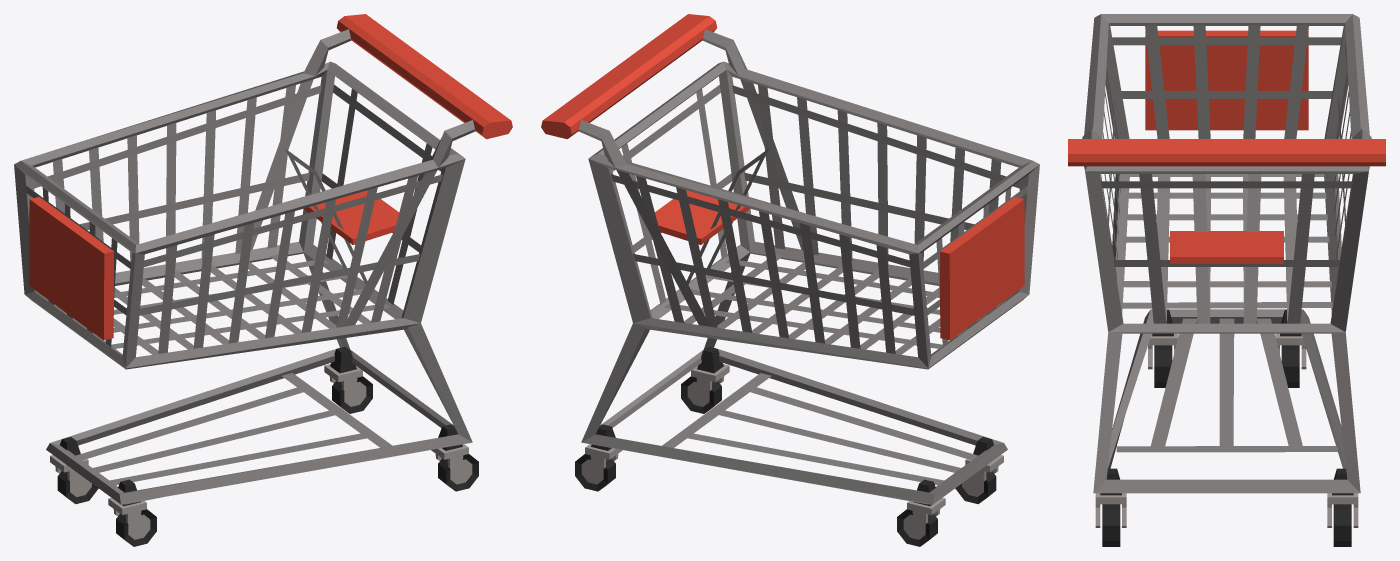
The model's file is apocalypse_shopping-trolley-seat-b.fbx.
The picture shows the model from 3 angles, left to right: view 1: azimuth 30°, elevation 25°; view 2: azimuth 150°, elevation 25°; view 3: azimuth 270°, elevation 25°; orthographic projection. The views are drawn at different scales.
Parts seen in each view (by area): view 1: apocalypse_shopping_trolley_seat_b; view 2: apocalypse_shopping_trolley_seat_b; view 3: apocalypse_shopping_trolley_seat_b.
Boxes of the visible parts, x1,y1,x2,y2 form: apocalypse_shopping_trolley_seat_b: (14, 14, 512, 546); apocalypse_shopping_trolley_seat_b: (541, 14, 1039, 546); apocalypse_shopping_trolley_seat_b: (1068, 14, 1385, 546).
Size of the model in its own units: 200 by 192 by 135.
